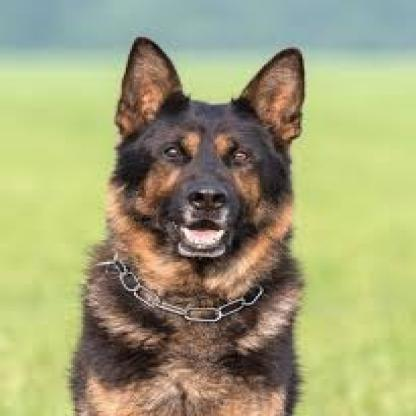dog: (72, 34, 305, 416)
